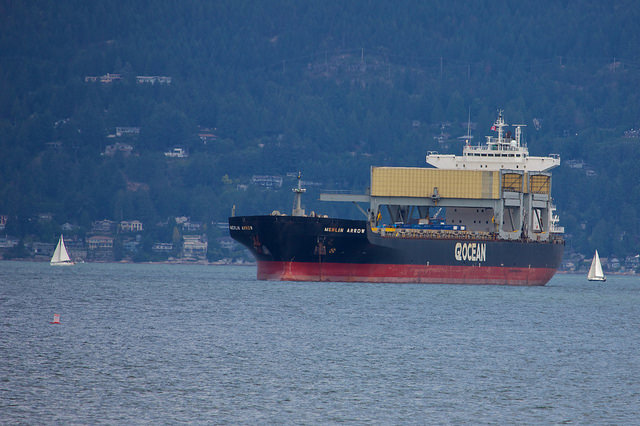boat: (47, 233, 79, 267), (587, 247, 611, 284)
bulk carrier: (227, 115, 564, 286)
